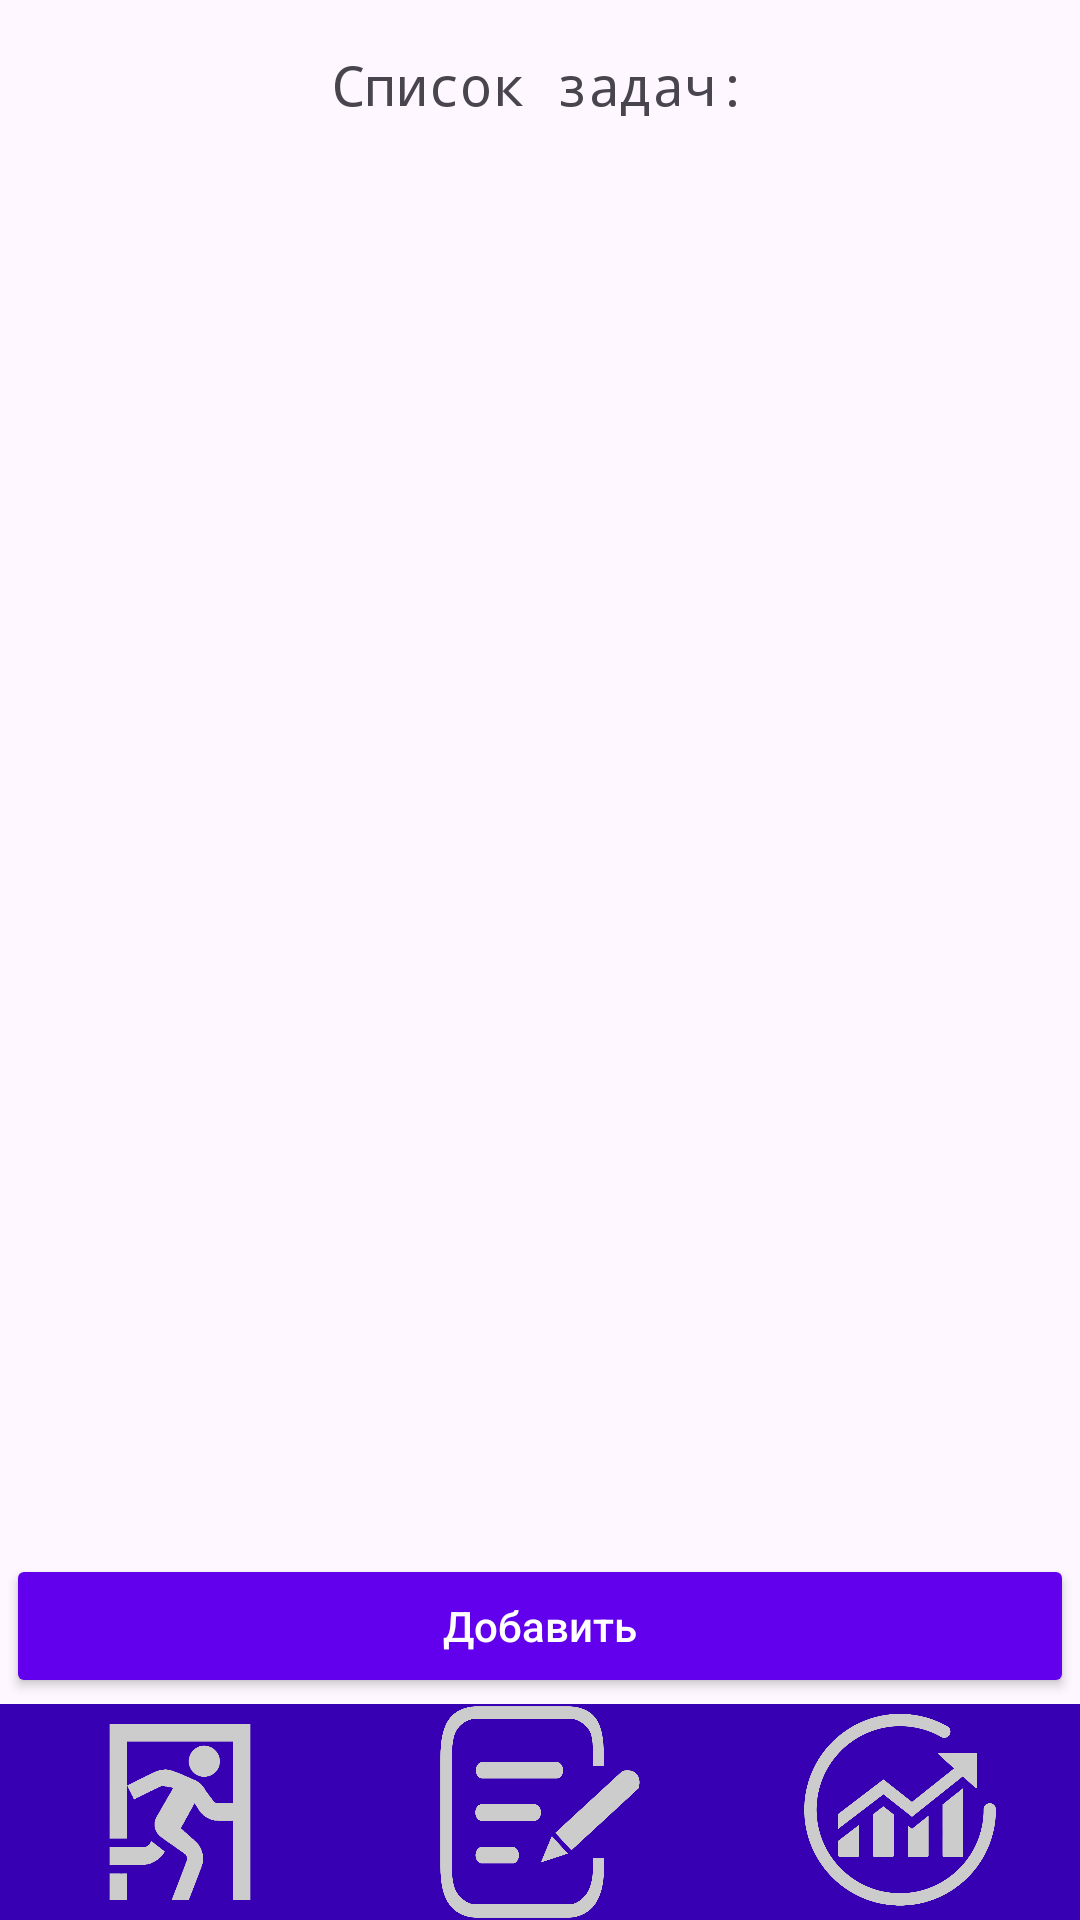

Named icons in this screenshot (1080 x 1920) and their centers, [x,y]:
list: [540,1812]
stats: [900,1810]
